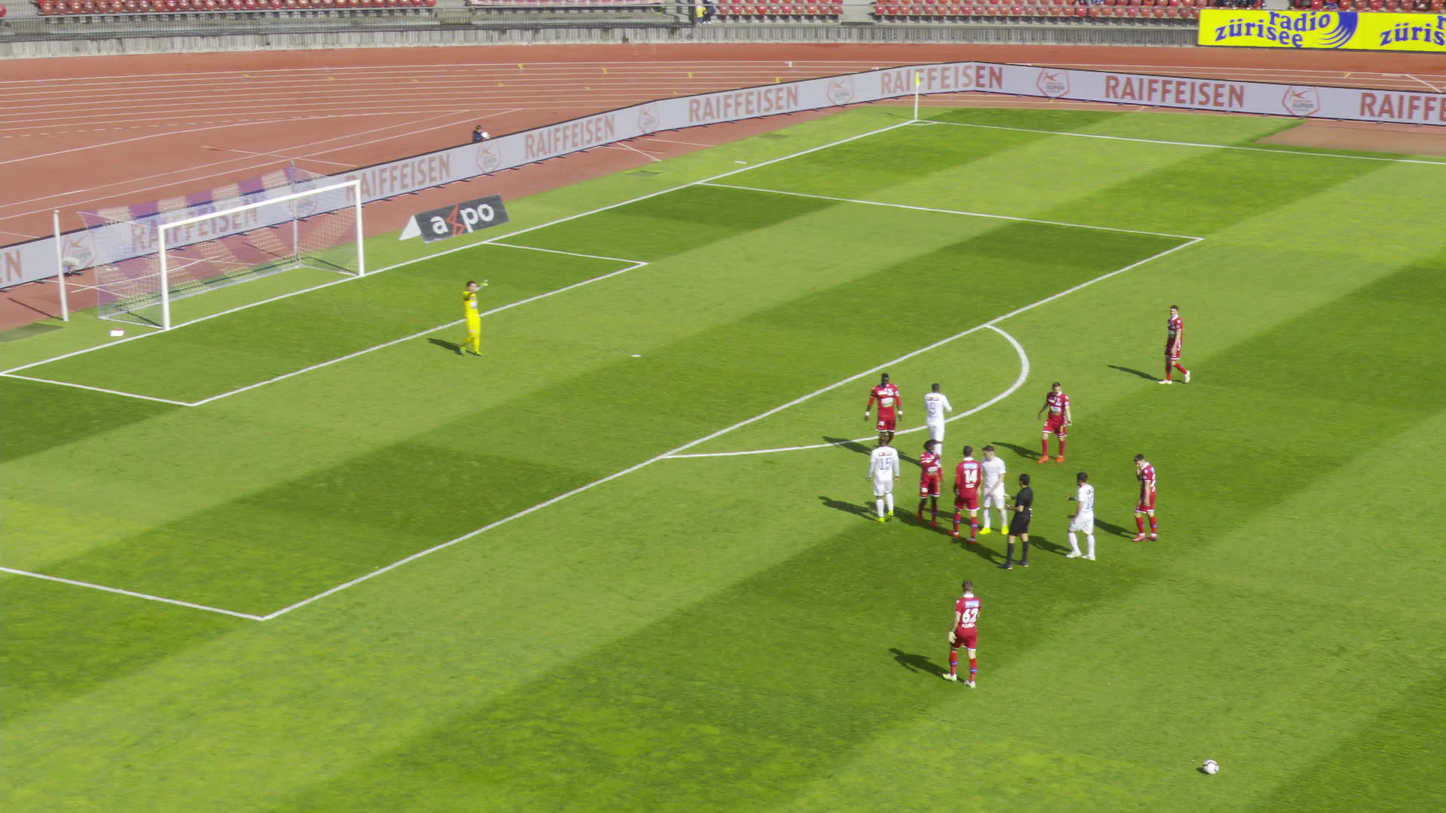ball: (1203, 759, 1217, 772)
player: (941, 580, 981, 689), (1030, 381, 1075, 464), (861, 373, 904, 452), (948, 446, 980, 544), (865, 437, 898, 528), (1064, 471, 1095, 561), (978, 446, 1008, 536), (1128, 453, 1158, 542), (920, 381, 950, 467), (1158, 305, 1190, 385), (451, 278, 484, 355), (913, 440, 941, 528)
referee: (999, 473, 1031, 571)
